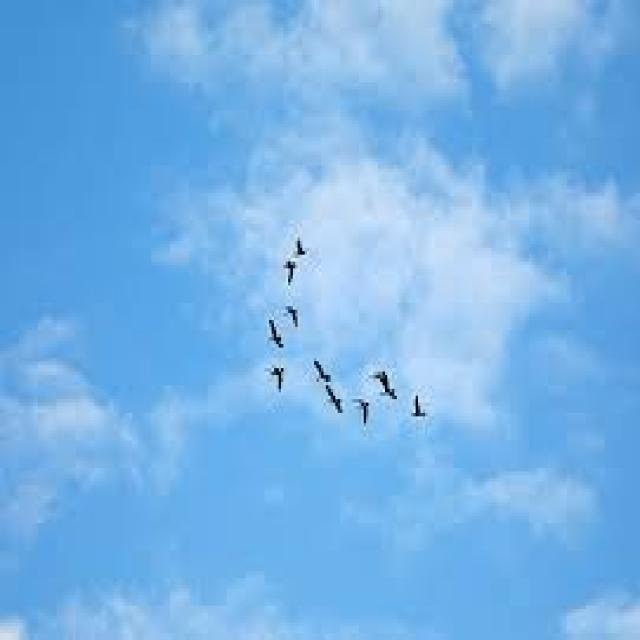bird: (262, 314, 298, 360), (276, 248, 310, 296), (290, 214, 319, 262), (350, 390, 380, 436), (318, 380, 350, 422), (282, 296, 311, 334), (364, 349, 394, 384), (409, 387, 432, 432), (266, 348, 288, 392), (310, 351, 334, 389), (383, 382, 402, 406)
